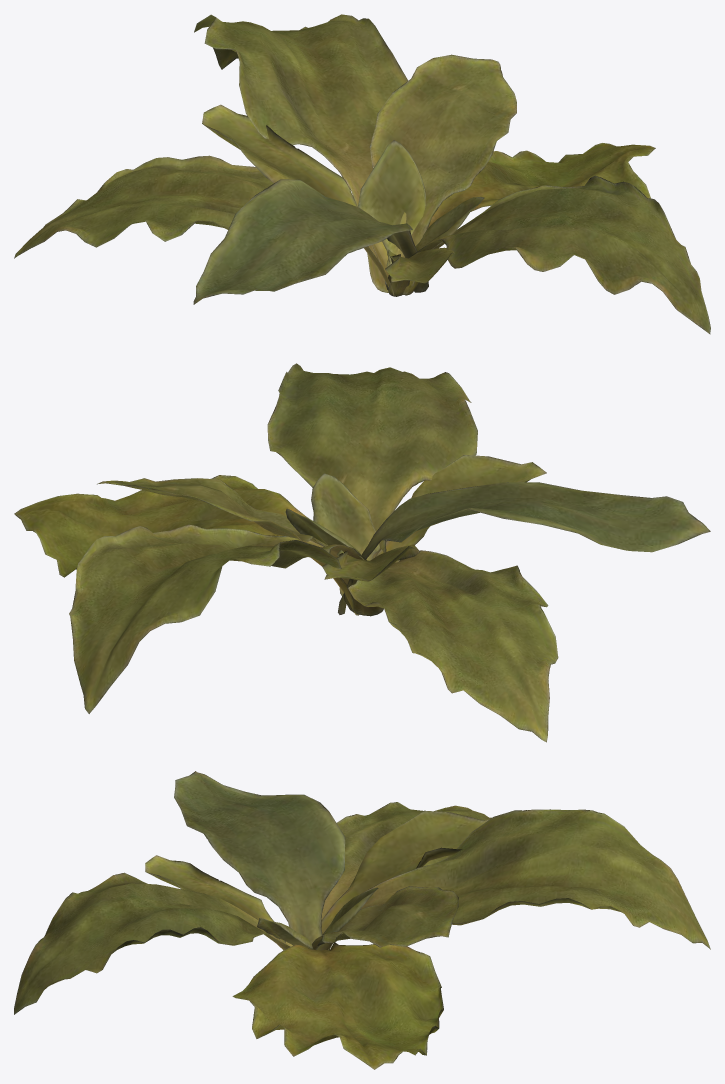
The model's file is crystalline_iceplant.glb.
The picture shows the model from 3 angles, top to bottom: view 1: azimuth 30°, elevation 25°; view 2: azimuth 150°, elevation 25°; view 3: azimuth 270°, elevation 25°; orthographic projection. The views are drawn at different scales.
Visible parts, largest first — view 1: crystalline_iceplant_a_LOD0; view 2: crystalline_iceplant_a_LOD0; view 3: crystalline_iceplant_a_LOD0.
Boxes of the visible parts, bbox=[...] form: crystalline_iceplant_a_LOD0: bbox=[14, 14, 710, 334]; crystalline_iceplant_a_LOD0: bbox=[14, 363, 710, 742]; crystalline_iceplant_a_LOD0: bbox=[14, 771, 710, 1069].
Size of the model in its own units: 0.2762 by 0.081 by 0.3155.
Materials: 1 (1 with a texture image).
